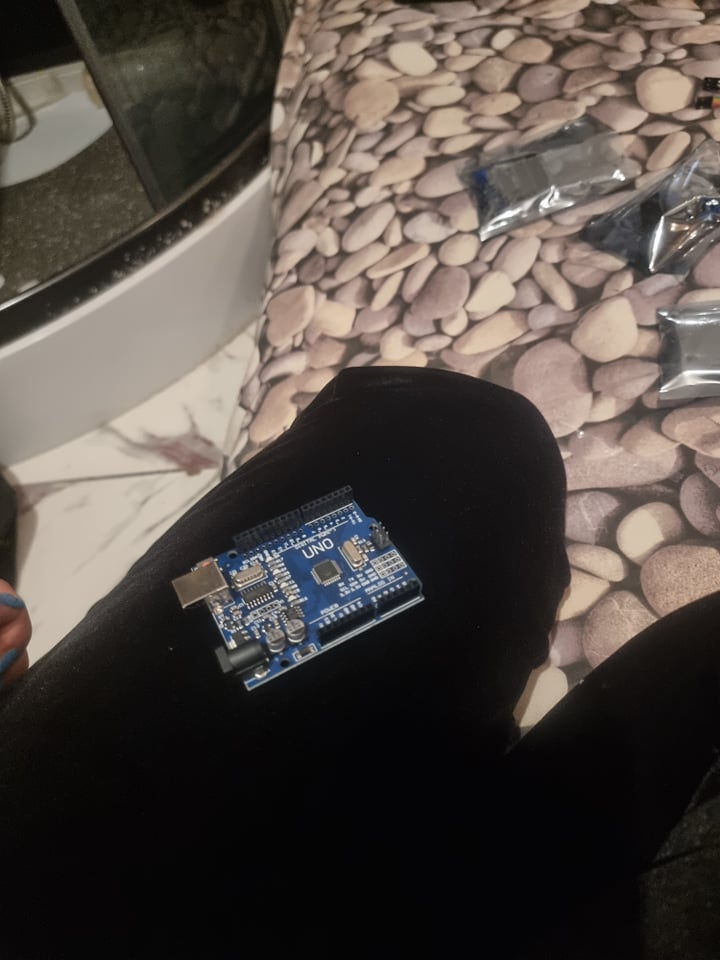UNO R3: (170, 485, 425, 695)
